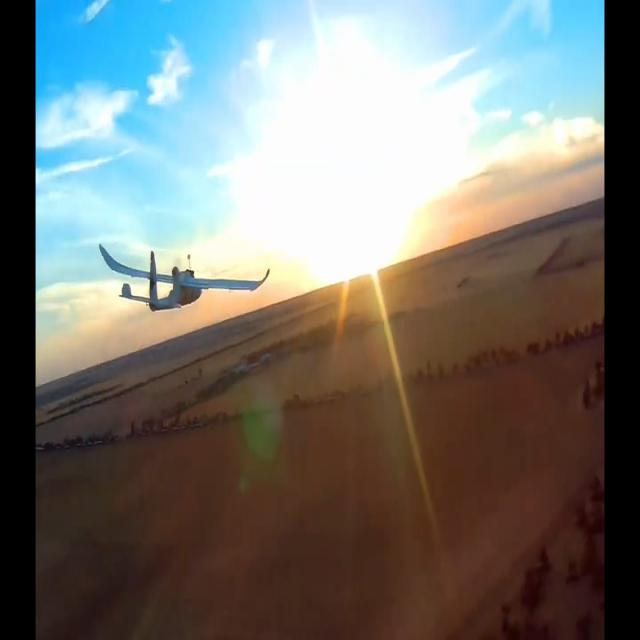iha: (98, 274, 271, 277)
